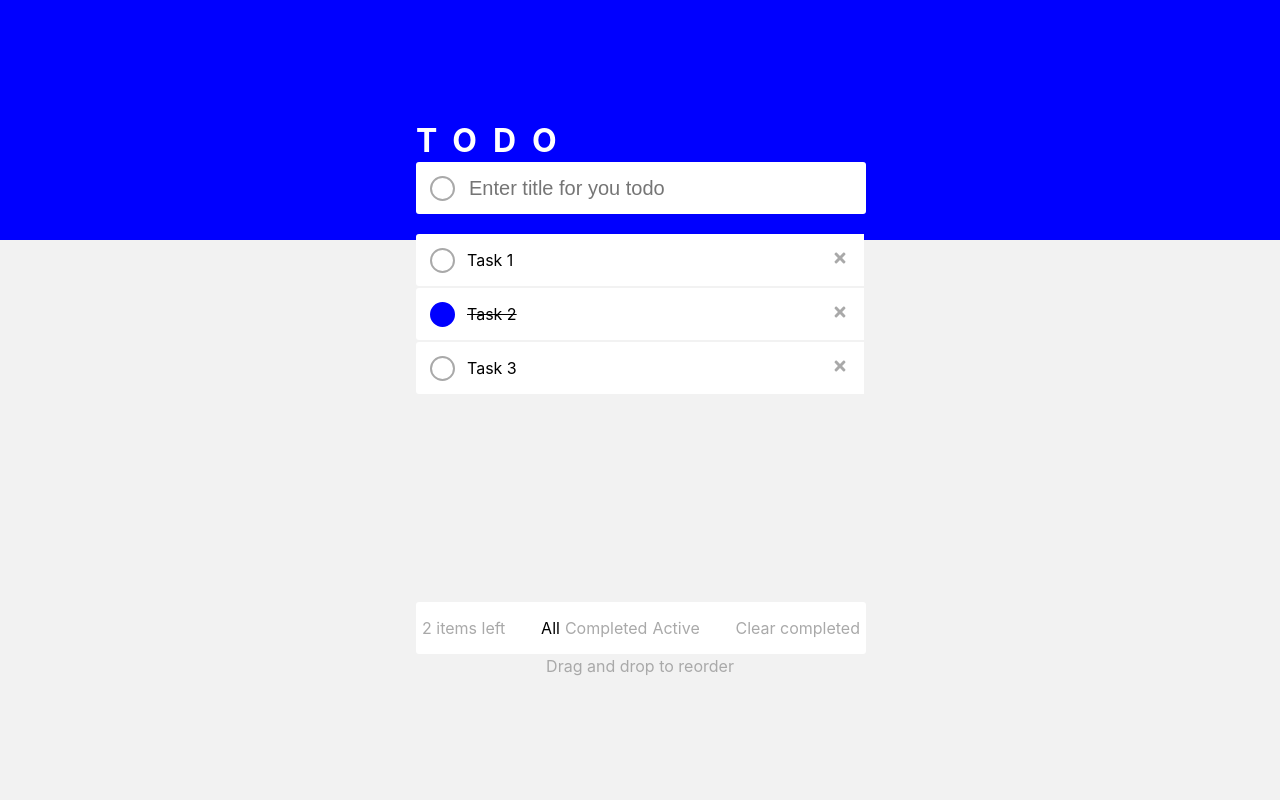
Todo List App › counter
The image size is (1280, 800).
Check: the text "2 items left" is shown, box [422, 618, 505, 638]
Click the 2nd checkbox.
click(443, 267)  # box [430, 257, 455, 277]
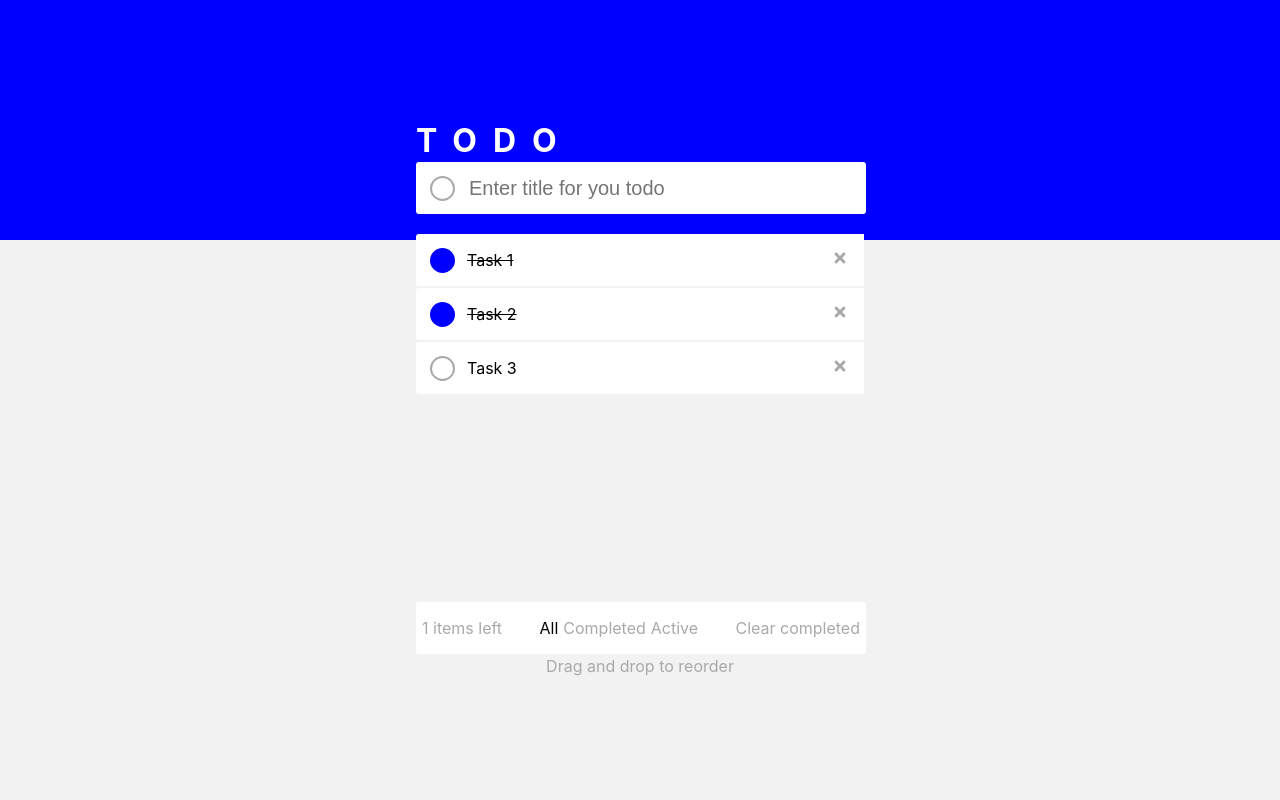
Check: the text "1 items left" is shown, box [422, 618, 502, 638]
